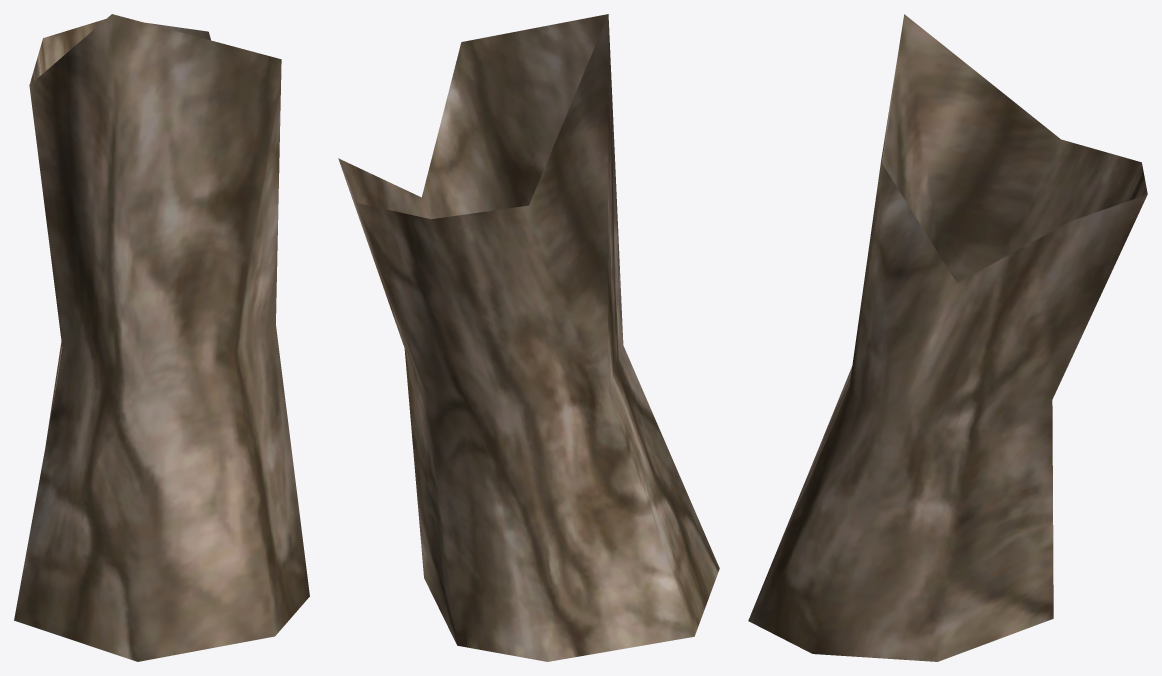
File: EKH_GROTTO_PS_GR_OBJECT44.fbx
3 views of the same model, side by side, from view 1: azimuth 30°, elevation 25°; view 2: azimuth 150°, elevation 25°; view 3: azimuth 270°, elevation 25° (orthographic). The views are drawn at different scales.
Visible parts, largest first — view 1: EKH_GROTTO_PS_GR_OBJECT44; view 2: EKH_GROTTO_PS_GR_OBJECT44; view 3: EKH_GROTTO_PS_GR_OBJECT44.
Boxes of the visible parts, x1,y1,x2,y2 form: EKH_GROTTO_PS_GR_OBJECT44: (14,14,309,661); EKH_GROTTO_PS_GR_OBJECT44: (338,14,719,661); EKH_GROTTO_PS_GR_OBJECT44: (748,14,1147,661).
Size of the model in its own units: 10674 by 21951 by 13882.
1 material, 1 textured.
